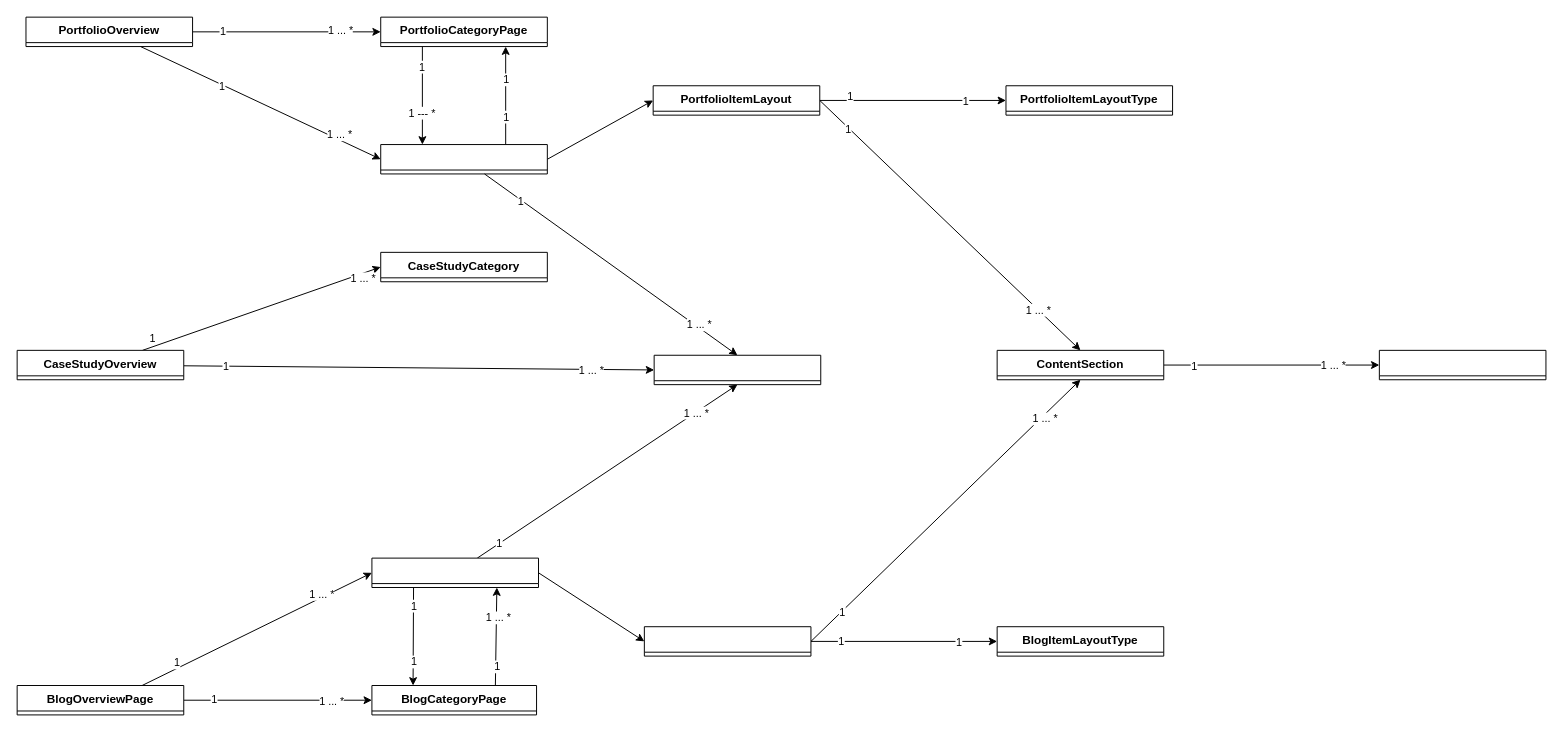
This 1563x732 diagram has some shape labels left out. Here are the shapes that lost their labels. From the top down, the centre of each, then its label:
At pixel 463 159: "PortfolioItemDetailPage".
At pixel 737 369: "Tag".
At pixel 1462 364: "ContentType".
At pixel 455 572: "BlogIPostPage".
At pixel 727 641: "BlogItemLayout".
